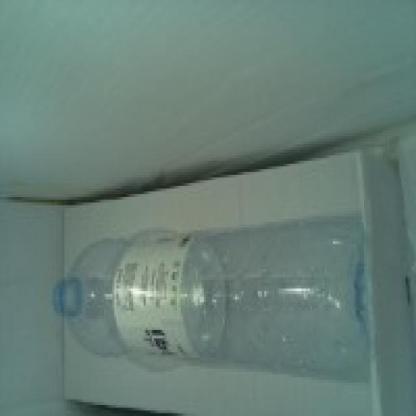Plastic Bottle: (50, 218, 370, 380)
